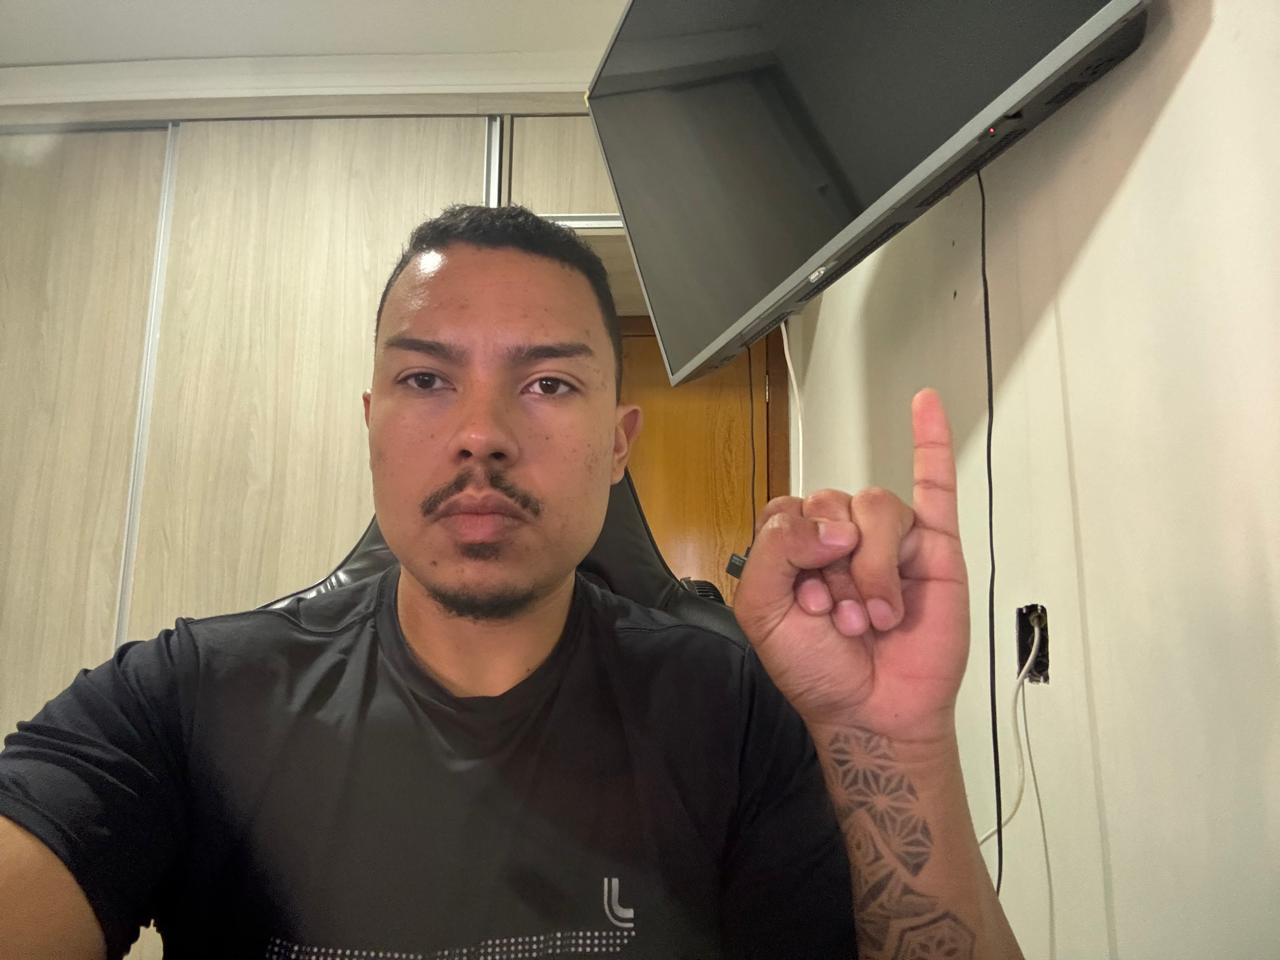i: (733, 380, 975, 749)
